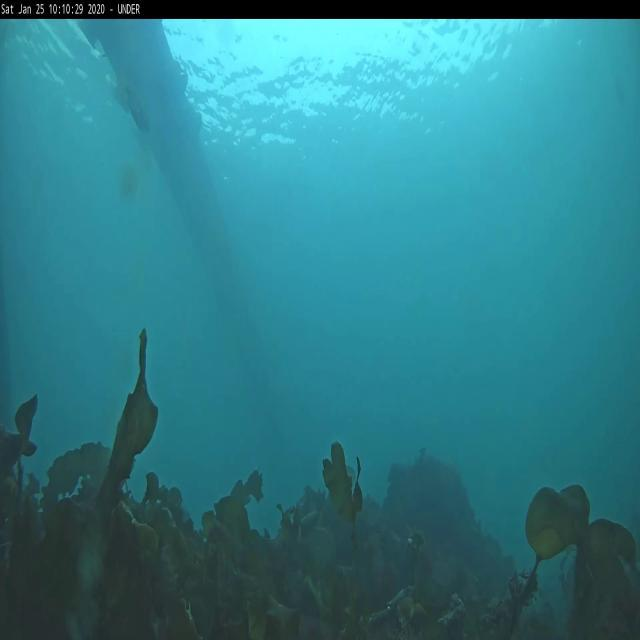fish: (120, 78, 154, 136)
